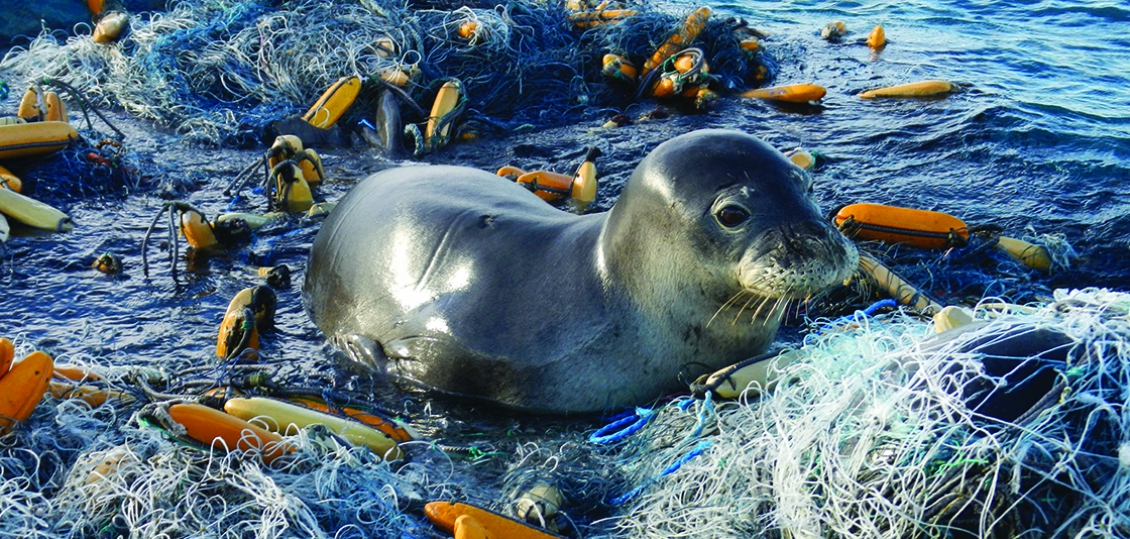litter: (650, 337, 1076, 539), (980, 258, 1130, 518), (167, 343, 407, 471), (756, 51, 1000, 147), (836, 168, 1021, 284), (114, 22, 283, 116), (127, 183, 277, 269), (194, 268, 314, 371), (404, 464, 567, 539), (627, 19, 737, 128), (1, 308, 89, 444), (246, 120, 346, 222), (413, 71, 504, 151), (587, 30, 676, 108), (1, 168, 107, 233), (1, 94, 117, 146), (296, 75, 370, 146)
